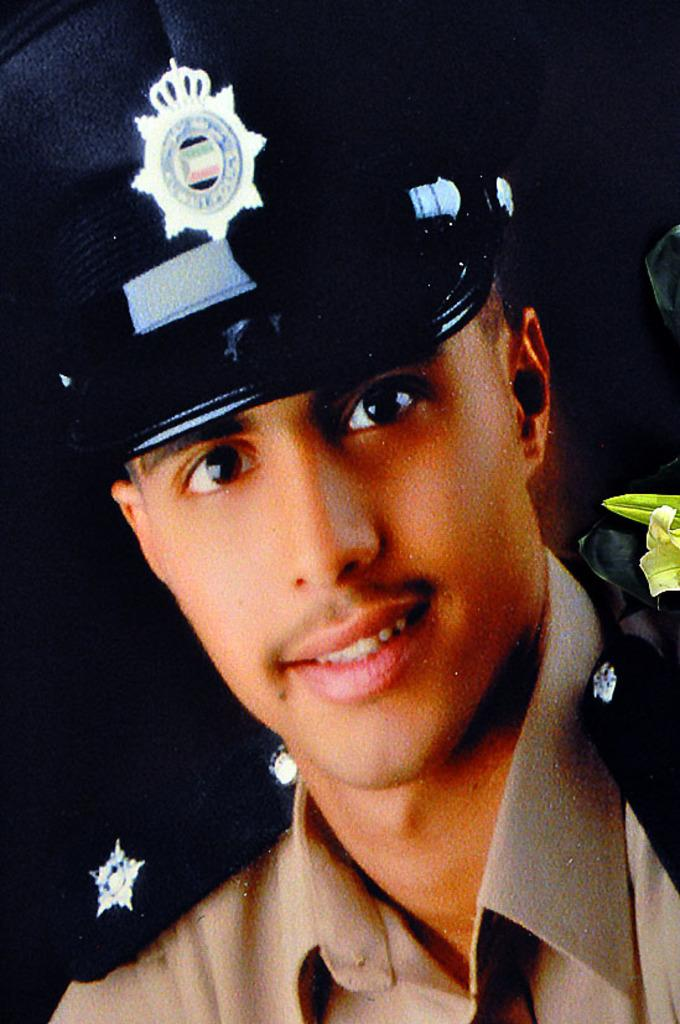Hat: (0, 0, 518, 466)
